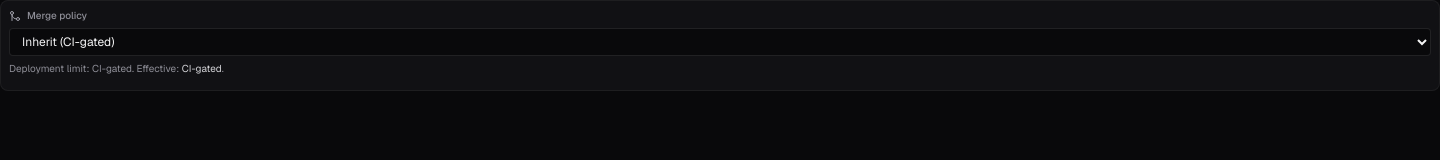
Test: MergePolicyControl › reports a refused save and keeps the stored value
Select "Human review" in the dropdown labelled "Merge policy" at (720, 42), box 9,28 -> 1431,56
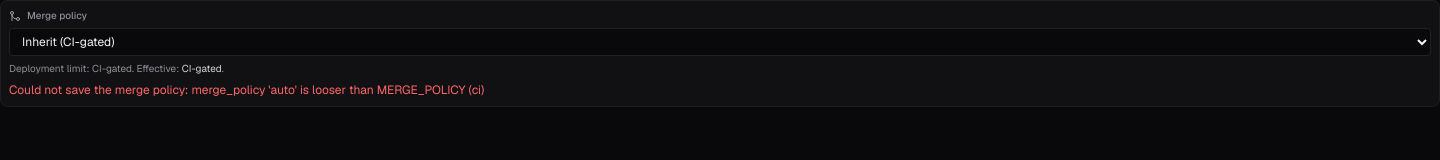
Expected: the message shows "looser than MERGE_POLICY", 9,82 -> 484,98
